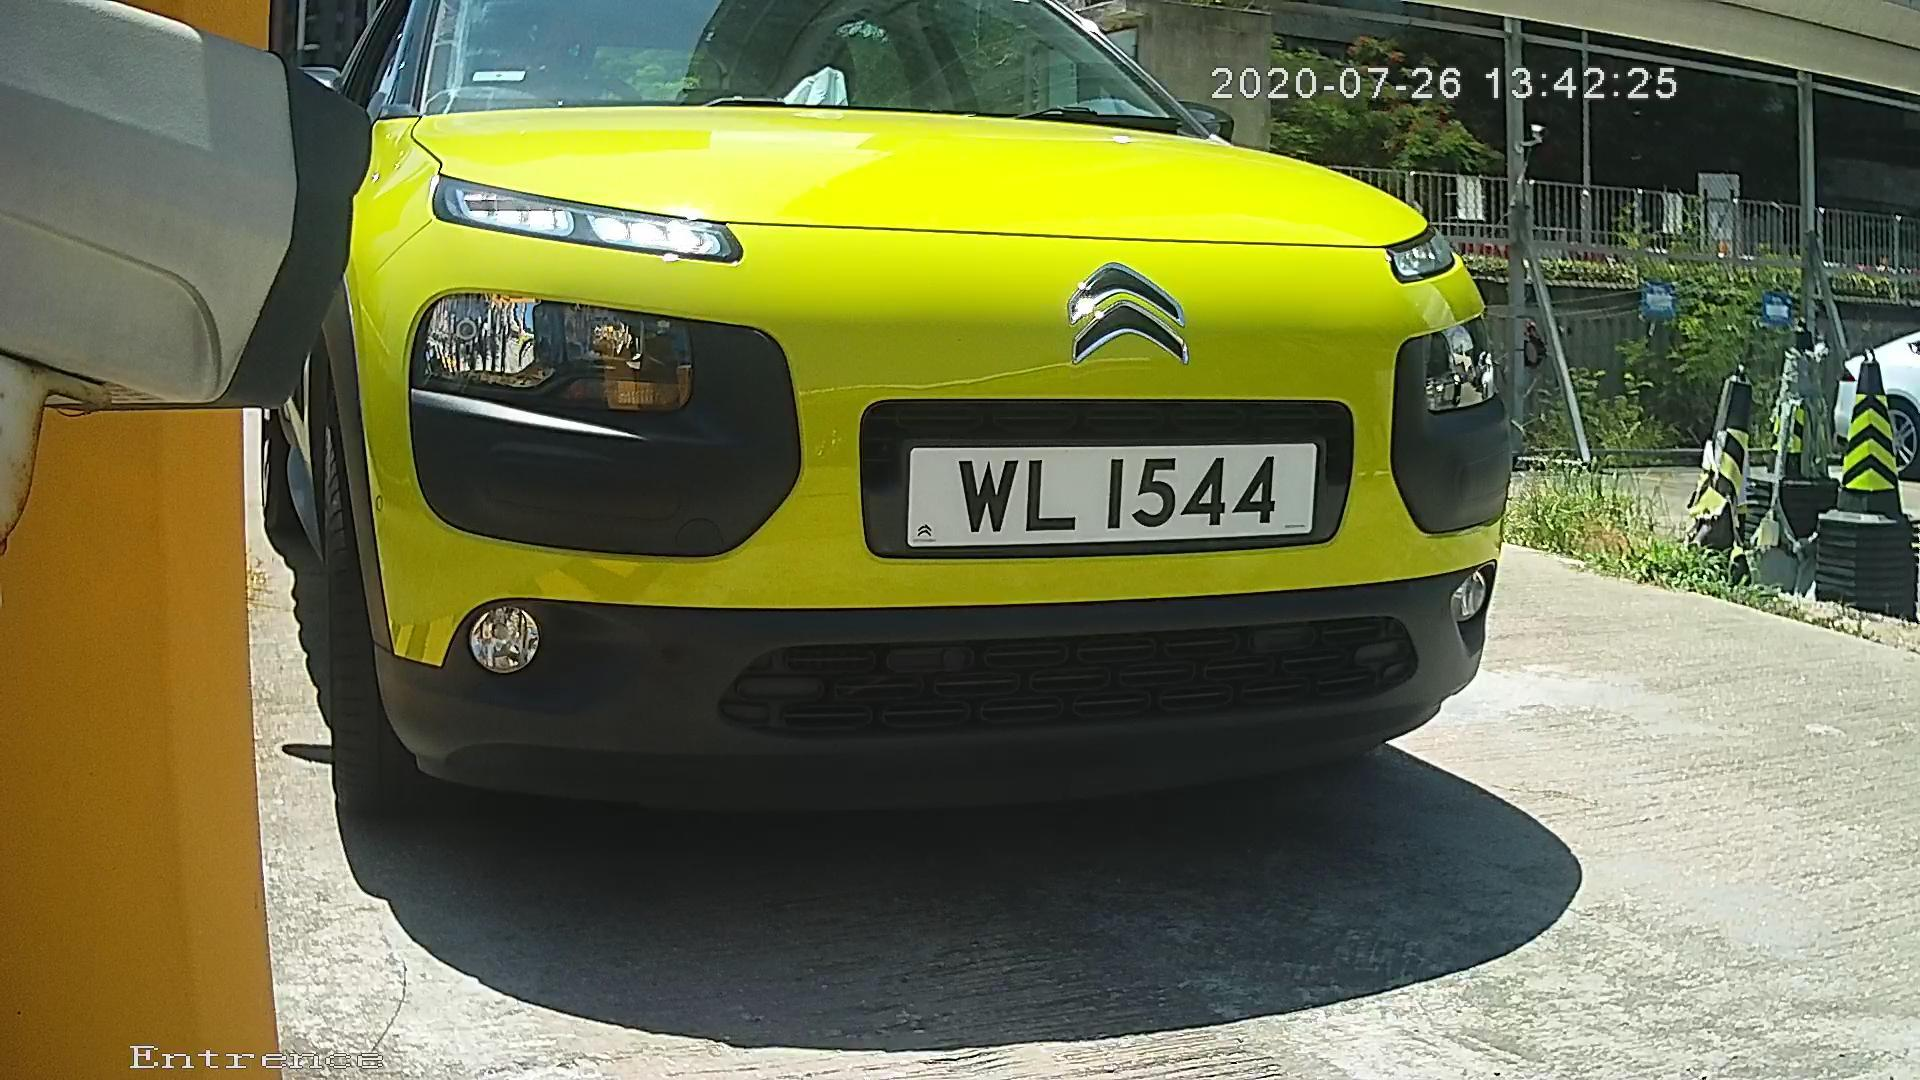privatecar: (241, 25, 1543, 960)
